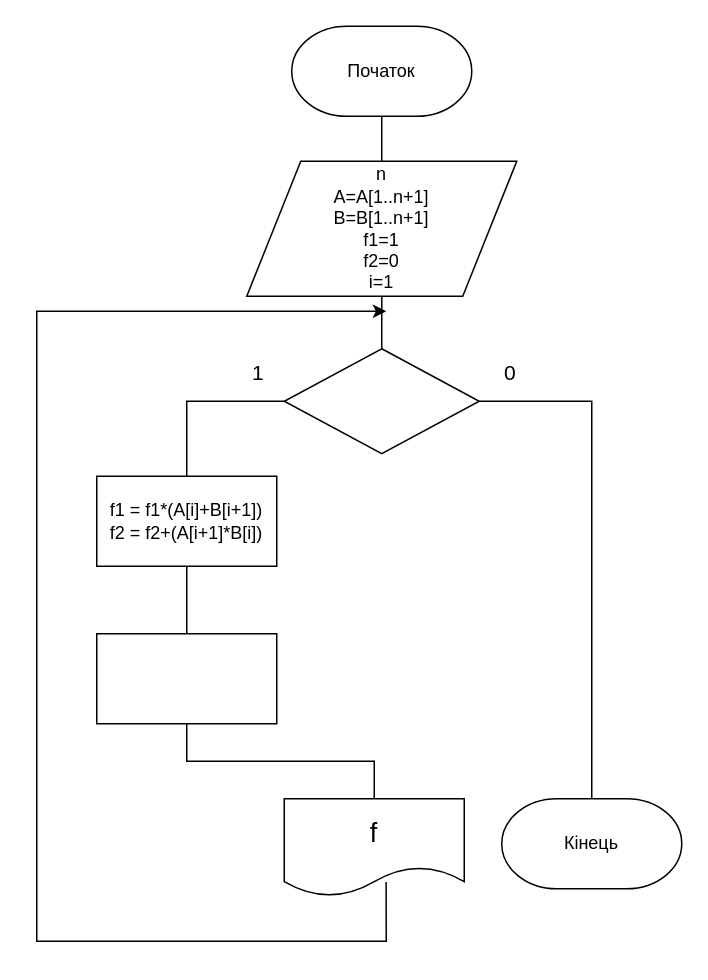
Some shapes in this 708 by 980 pixel diagram are drawn without their labels. The box of each missing label's shape, as (x1, y1, x2, y2) in pixels:
f = f1+f2 i = i+1: (95, 632, 277, 724)
i < n: (283, 347, 479, 454)
